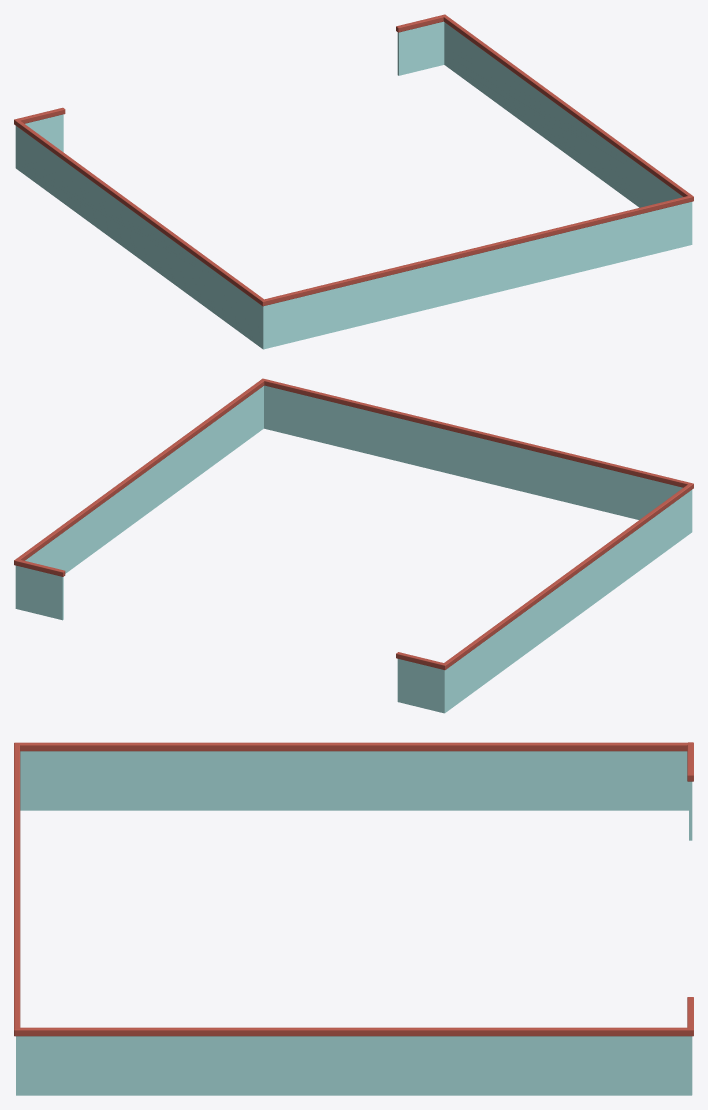
File: glass.fbx
3 renders of one model, top to bottom at view 1: azimuth 30°, elevation 25°; view 2: azimuth 150°, elevation 25°; view 3: azimuth 270°, elevation 25°, orthographic. The views are drawn at different scales.
Visible parts, largest first — view 1: glasslinelong4; view 2: glasslinelong4; view 3: glasslinelong4.
Part boxes in pixels (x1,y1,x2,y2): glasslinelong4: (14,14,693,349); glasslinelong4: (14,378,693,713); glasslinelong4: (14,742,693,1095).
Size of the model in its own units: 73.92 by 7.97 by 73.88.
